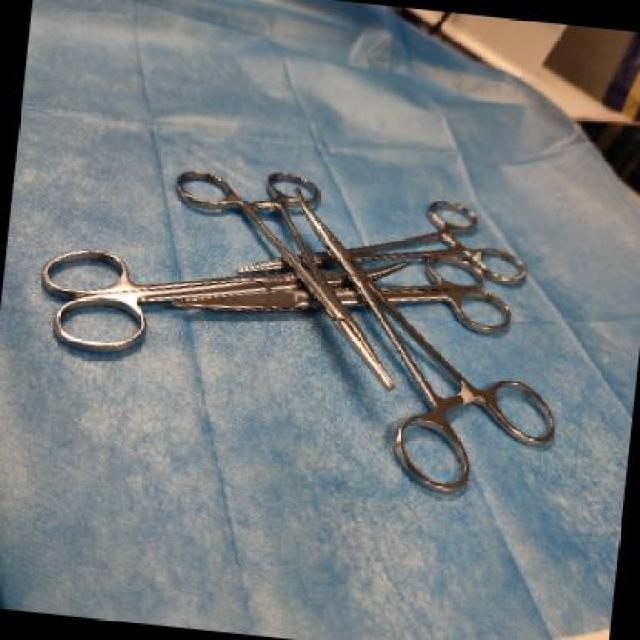Monitor: (28, 123, 578, 510)
